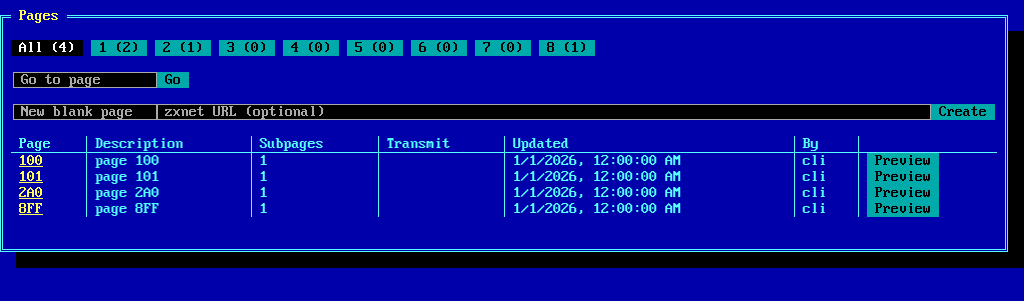
Test: jump with 900 shows a message and stays
In the field named "jump": [85, 80] box [13,72,157,88], type "900"
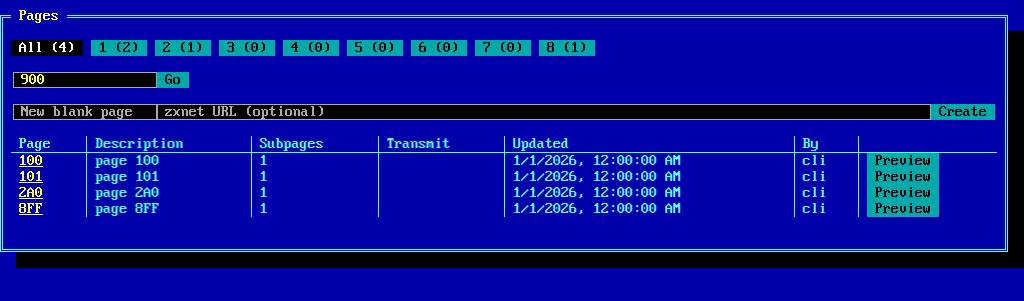
Submit the form "Go", box [13,72,189,88]
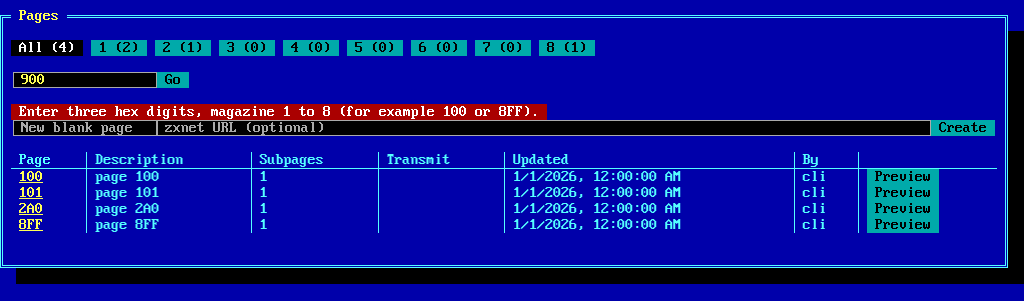
Check: the message "Enter three hex digits, magazine 1 to 8 (for example 100 or 8FF)." is shown, box [11,104,547,120]
